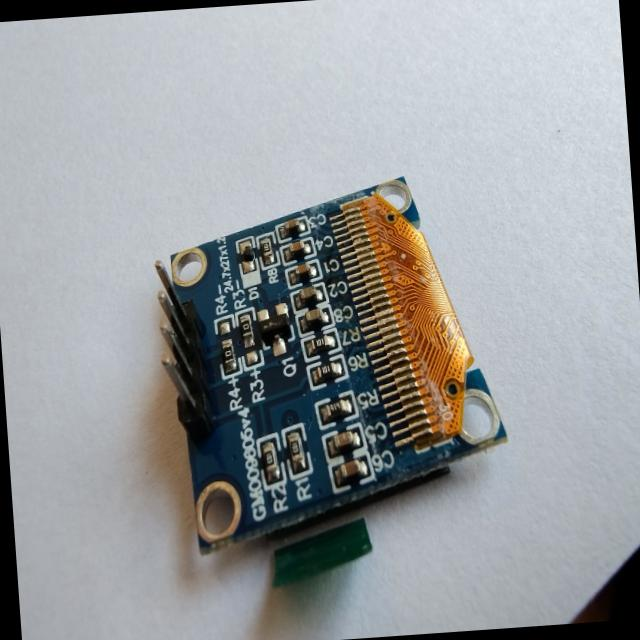oled: (143, 161, 525, 605)
